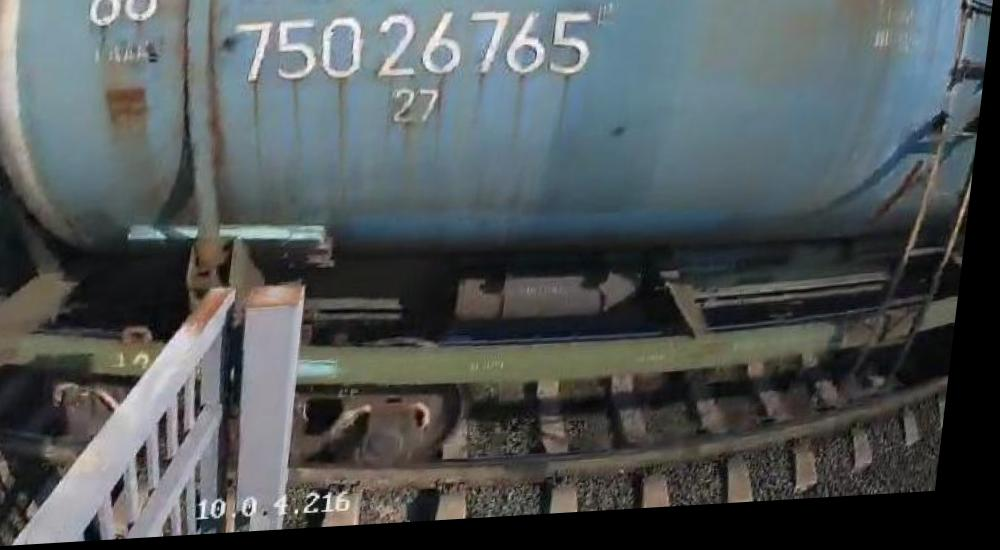Wagon-number: (223, 2, 600, 105)
